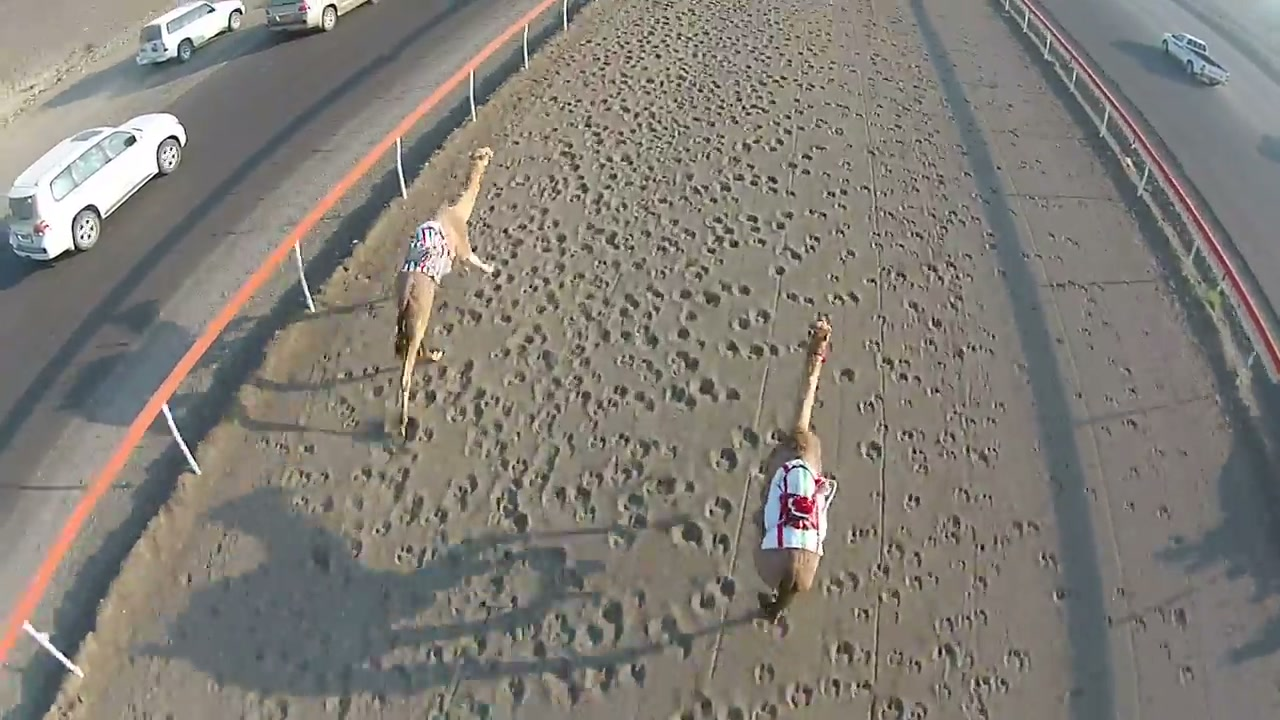animal_foot_print: (57, 0, 1271, 719), (420, 346, 444, 361)
